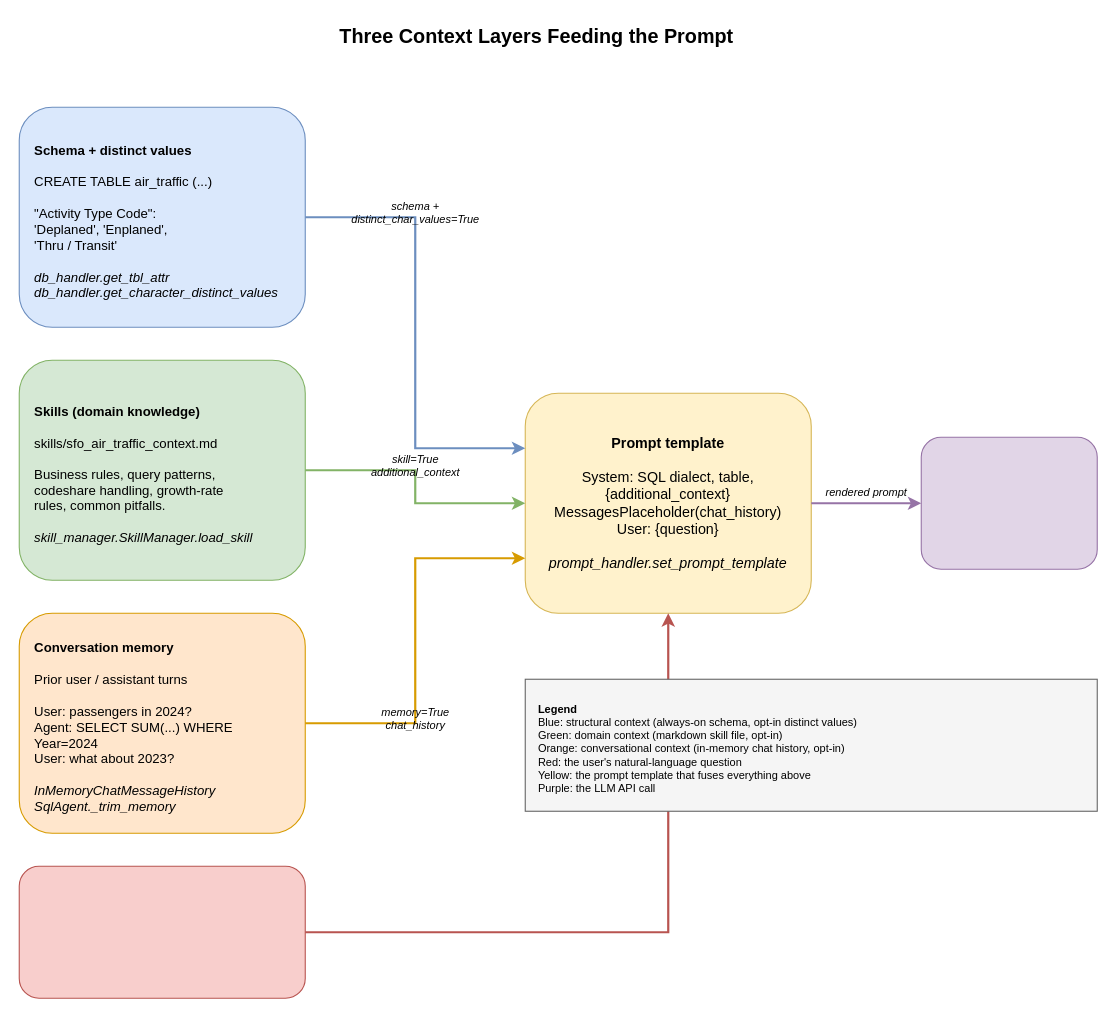
Some shapes in this 1117 by 1018 pixel diagram are drawn without their labels. Here are the shapes that lost their labels. From the top down, the box of each, then its label:
(920, 436, 1097, 569): LLM API ChatOpenAI (provider + model)
(18, 865, 305, 998): User question "What's the year-over-year passenger growth from 2023 to 2024?"
